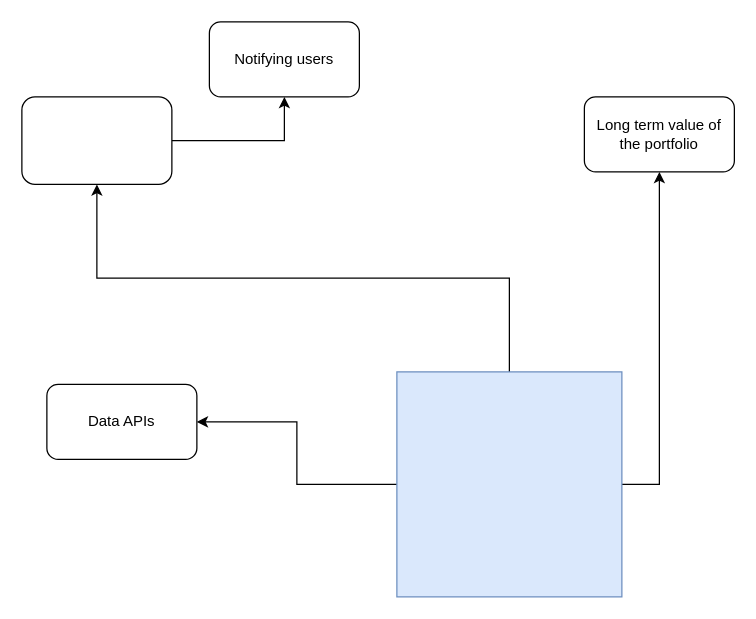
Image size: 756x619. Some labels were removed from this diagram. Here are the shapes that lost their labels. From the top down, the centre of each, then its label:
At point (96, 140): "Determine whether to buy/sell".
At point (509, 484): "Trade 24/7".
